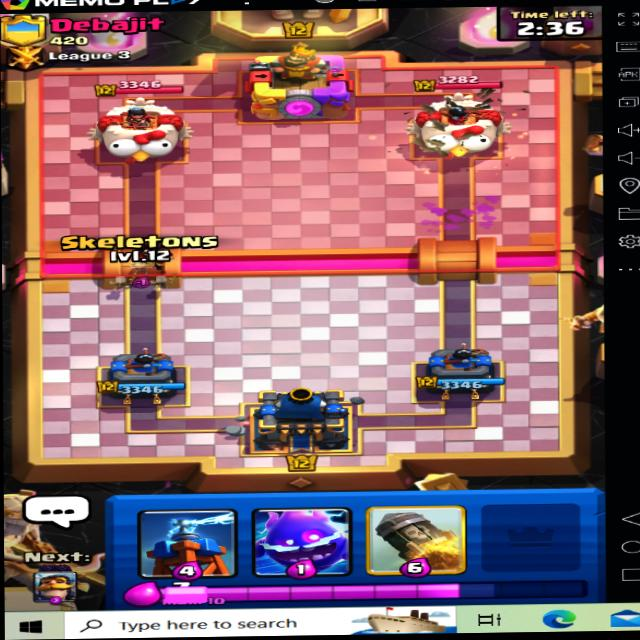Ewiz: (120, 232, 177, 275)
